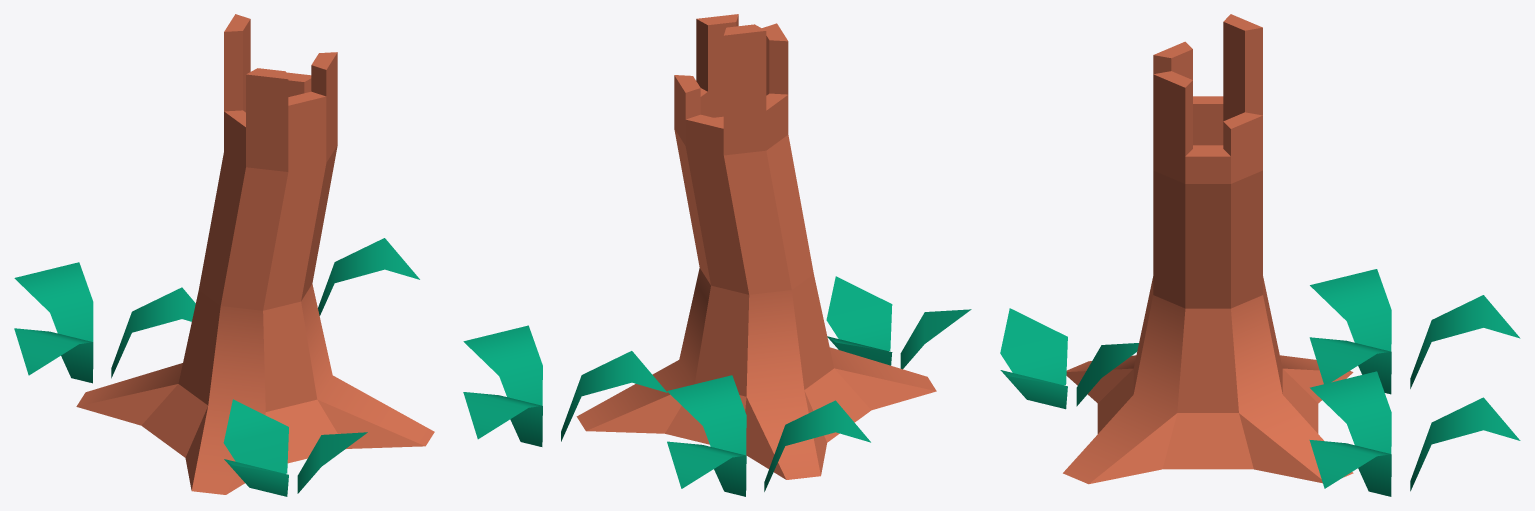
File: TreeThree.fbx
The picture shows the model from 3 angles, left to right: view 1: azimuth 30°, elevation 25°; view 2: azimuth 150°, elevation 25°; view 3: azimuth 270°, elevation 25°; orthographic projection. The views are drawn at different scales.
Parts seen in each view (by area): view 1: mergedBlocks; view 2: mergedBlocks; view 3: mergedBlocks.
Boxes of the visible parts, x1=… form: mergedBlocks: x1=14, y1=14, x2=434, y2=496; mergedBlocks: x1=463, y1=14, x2=971, y2=496; mergedBlocks: x1=1000, y1=14, x2=1520, y2=496.
Size of the model in its own units: 15.47 by 14.5 by 17.17.
